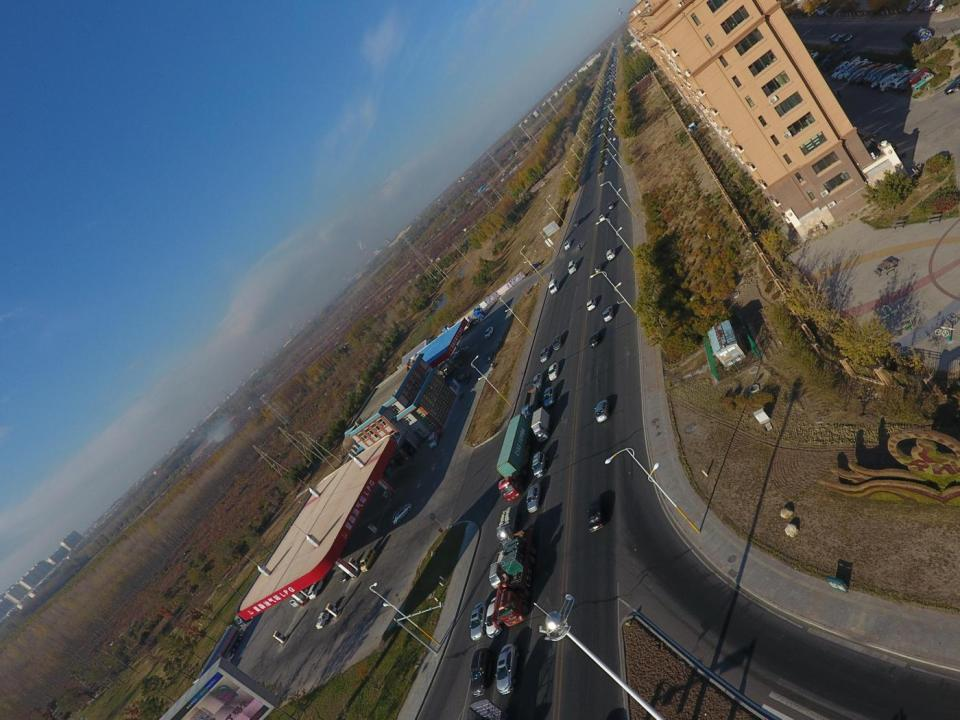car: (470, 647, 495, 697), (496, 644, 519, 696), (485, 596, 505, 638), (530, 407, 552, 444), (899, 67, 930, 92), (470, 601, 487, 642), (880, 69, 909, 92), (890, 68, 920, 90), (588, 498, 606, 533), (864, 62, 890, 86), (857, 62, 881, 86), (871, 66, 897, 88), (868, 62, 894, 84), (844, 59, 870, 80), (307, 574, 326, 600), (316, 605, 334, 631), (392, 503, 414, 524), (838, 61, 862, 80), (532, 451, 548, 479), (848, 66, 870, 86), (527, 483, 541, 514), (594, 398, 610, 423), (944, 73, 960, 95), (341, 561, 356, 583), (543, 386, 558, 407), (803, 52, 822, 67), (937, 0, 954, 15), (800, 50, 820, 62), (548, 362, 560, 381), (589, 330, 601, 348), (917, 0, 934, 12), (427, 431, 438, 449), (552, 334, 563, 351), (533, 373, 544, 390), (924, 0, 941, 11), (603, 306, 614, 322), (931, 0, 946, 11), (484, 348, 494, 364), (540, 346, 550, 362), (586, 297, 597, 311), (840, 32, 852, 44), (606, 248, 617, 261), (456, 346, 469, 356), (462, 372, 472, 384), (485, 326, 495, 338), (448, 351, 457, 364), (568, 260, 576, 274), (594, 263, 603, 273), (829, 34, 841, 41), (564, 239, 571, 250), (598, 212, 606, 221), (607, 201, 614, 210), (573, 218, 580, 227), (608, 119, 613, 125), (604, 160, 609, 165), (600, 124, 604, 130), (612, 115, 616, 121), (608, 126, 612, 131), (610, 108, 614, 112), (609, 113, 613, 117), (612, 137, 616, 140), (596, 130, 599, 133)
truck: (492, 527, 537, 627), (496, 414, 534, 501), (193, 625, 242, 692), (235, 561, 276, 627), (489, 550, 514, 588), (450, 307, 485, 334), (822, 44, 854, 73), (497, 506, 519, 545), (520, 387, 542, 422), (901, 26, 934, 46), (441, 315, 472, 336), (878, 64, 911, 82), (832, 60, 853, 79), (839, 56, 861, 74), (912, 73, 934, 90), (855, 127, 881, 141), (906, 0, 925, 13)
van: (360, 548, 376, 574), (816, 4, 834, 16), (548, 278, 560, 295)
